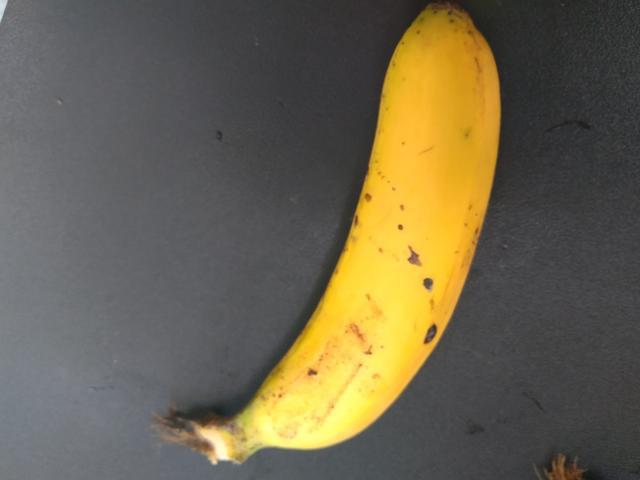ripe: (225, 21, 513, 479)
